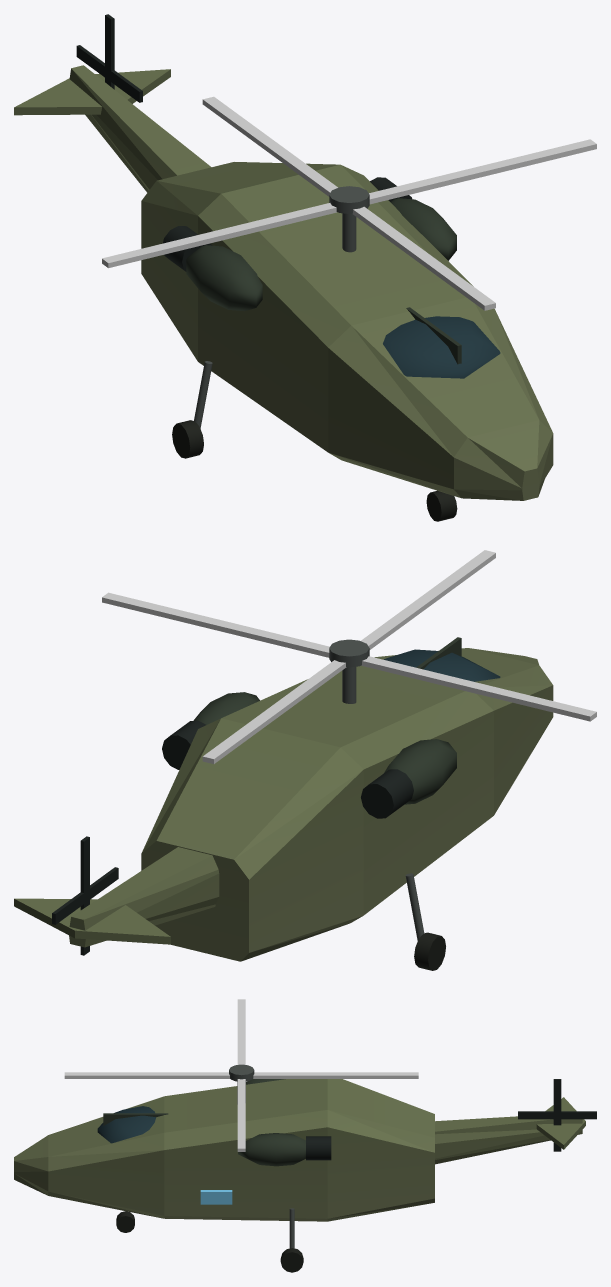
Rendered from transport-lod.glb.
3 renders of one model, top to bottom at view 1: azimuth 30°, elevation 25°; view 2: azimuth 150°, elevation 25°; view 3: azimuth 270°, elevation 25°, orthographic. The views are drawn at different scales.
Parts seen in each view (by area): view 1: equipment (×4); view 2: equipment (×4); view 3: equipment (×4), marking.
Part boxes in pixels (x1=…): equipment (×4): x1=14, y1=14, x2=596, y2=521; equipment (×4): x1=14, y1=550, x2=596, y2=970; equipment (×4): x1=14, y1=999, x2=596, y2=1272; marking: x1=200, y1=1190, x2=232, y2=1204.
Size of the model in its own units: 5.6 by 2.86 by 9.23.
